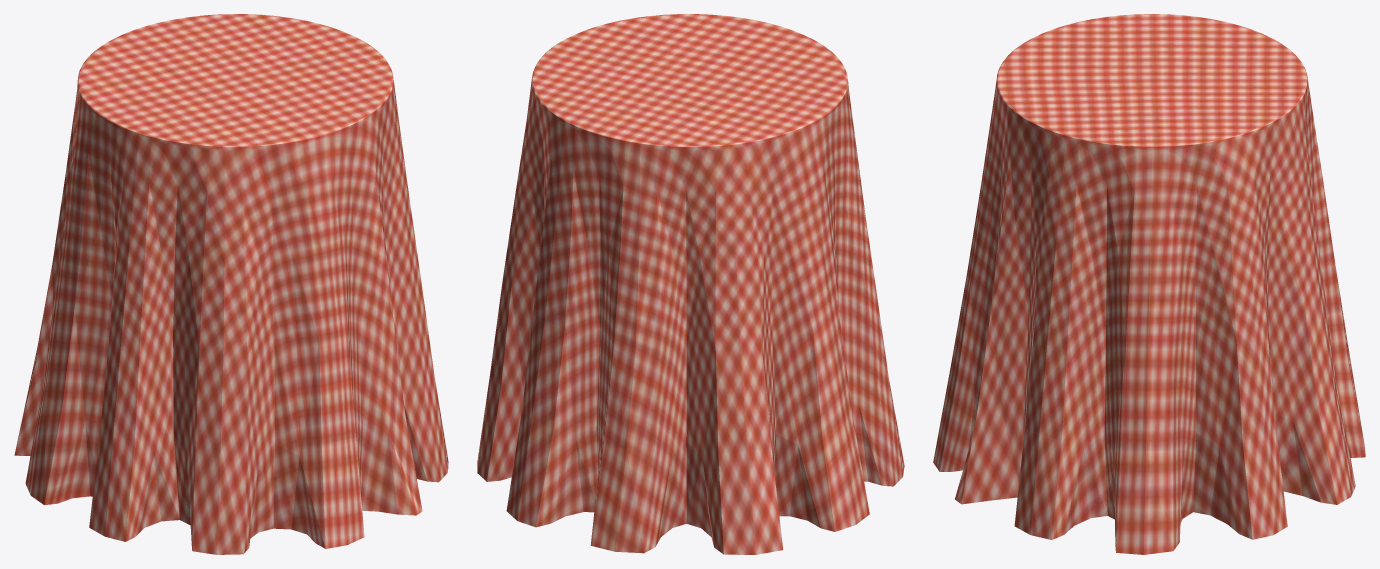
The model's file is sh-bs0-table-with-tablecloth.glb.
3 renders of one model, left to right at view 1: azimuth 30°, elevation 25°; view 2: azimuth 150°, elevation 25°; view 3: azimuth 270°, elevation 25°, orthographic.
Visible parts, largest first — view 1: 1_4; view 2: 1_4; view 3: 1_4.
Part boxes in pixels (x1,y1,x2,y2): 1_4: [14, 14, 448, 554]; 1_4: [477, 14, 904, 554]; 1_4: [933, 14, 1365, 554].
Size of the model in its own units: 1 by 1 by 1.
Materials: 2 (1 with a texture image).
